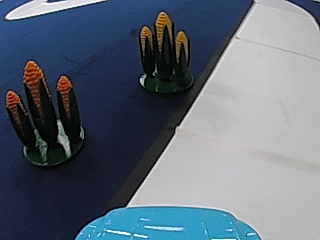corn: (6, 61, 86, 168), (133, 7, 196, 94)
